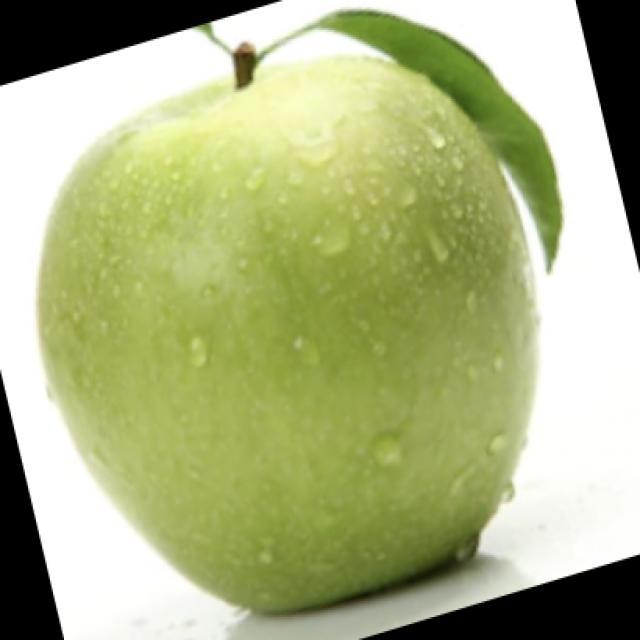Fresh Apple: (25, 45, 520, 603)
